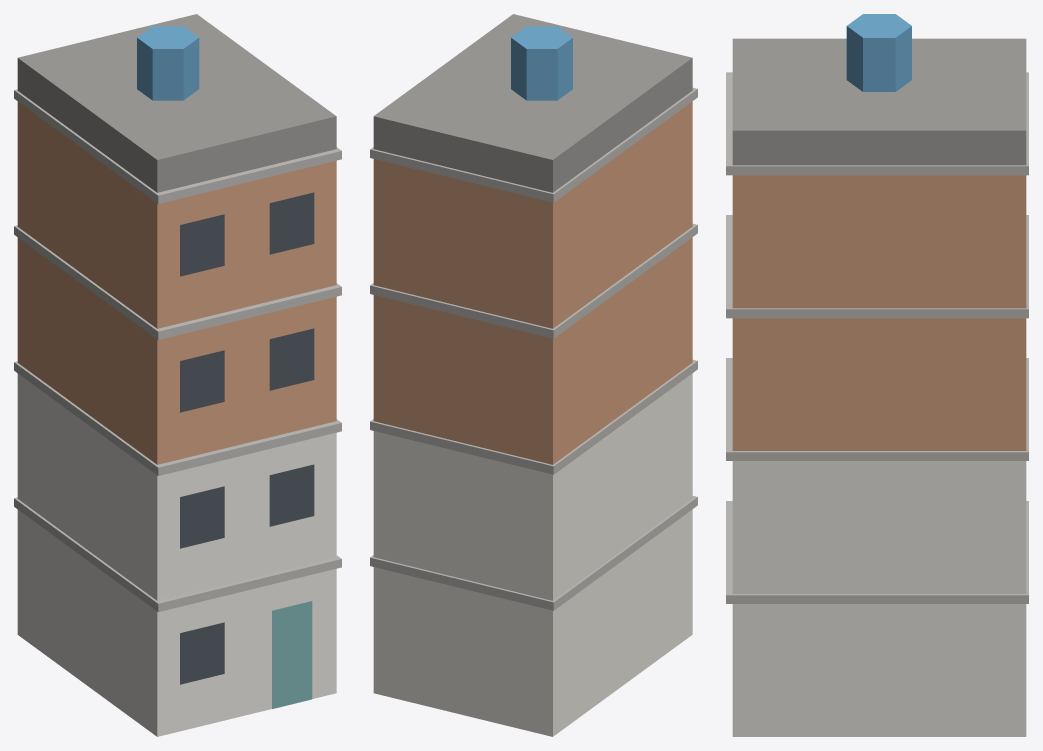
The picture shows the model from 3 angles, left to right: view 1: azimuth 30°, elevation 25°; view 2: azimuth 150°, elevation 25°; view 3: azimuth 270°, elevation 25°; orthographic projection. The views are drawn at different scales.
Parts seen in each view (by area): view 1: fv_h05.lod1; view 2: fv_h05.lod1; view 3: fv_h05.lod1.
Boxes of the visible parts, x1=… form: fv_h05.lod1: x1=14, y1=14, x2=341, y2=736; fv_h05.lod1: x1=370, y1=14, x2=697, y2=736; fv_h05.lod1: x1=726, y1=14, x2=1028, y2=736.
Size of the model in its own units: 4.1 by 13.4 by 5.57.
